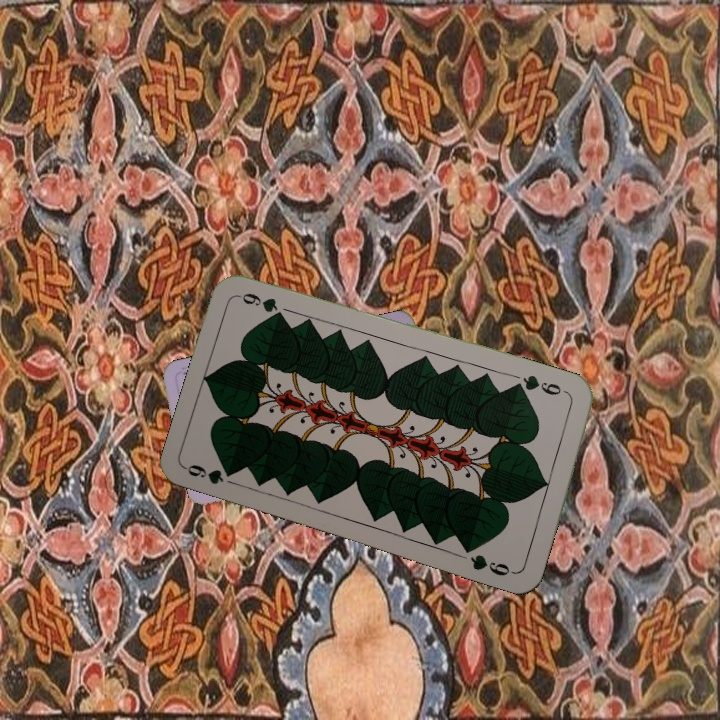G9: (512, 370, 572, 398), (183, 460, 236, 487)
